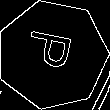P_E: (23, 32, 81, 78)
